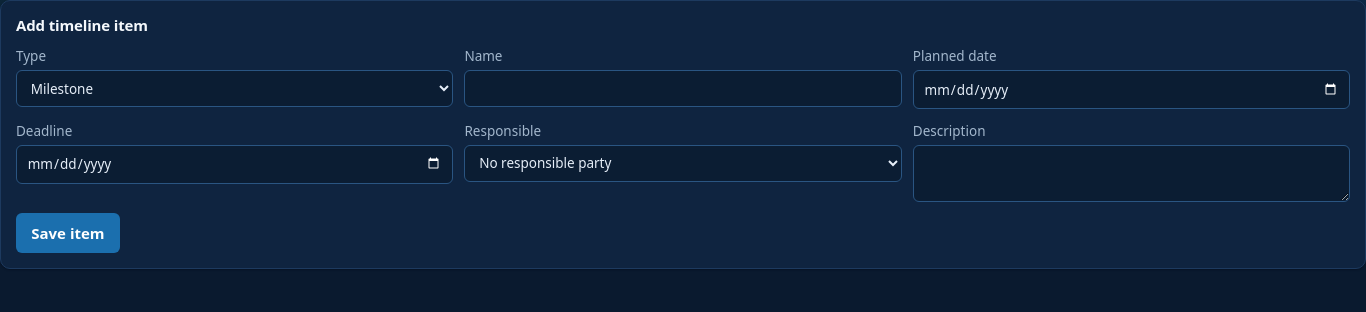
timeline item form › shows each field message from a 400 next to its field
Click the button "Save item" at point(68, 233), box x1=16 y1=213 x2=120 y2=253
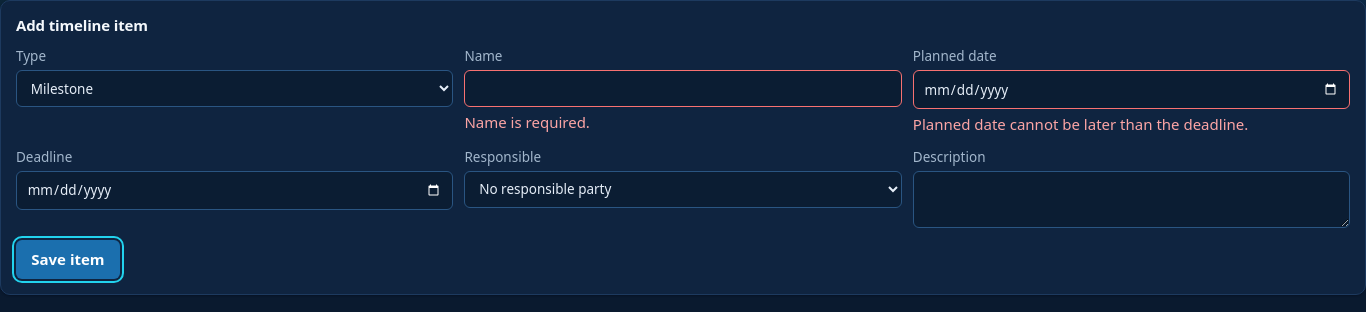
Result: the text "Name is required." is shown at x1=464 y1=112 x2=590 y2=132
Result: the text "Planned date cannot be later than the deadline." is shown at x1=913 y1=114 x2=1248 y2=134
